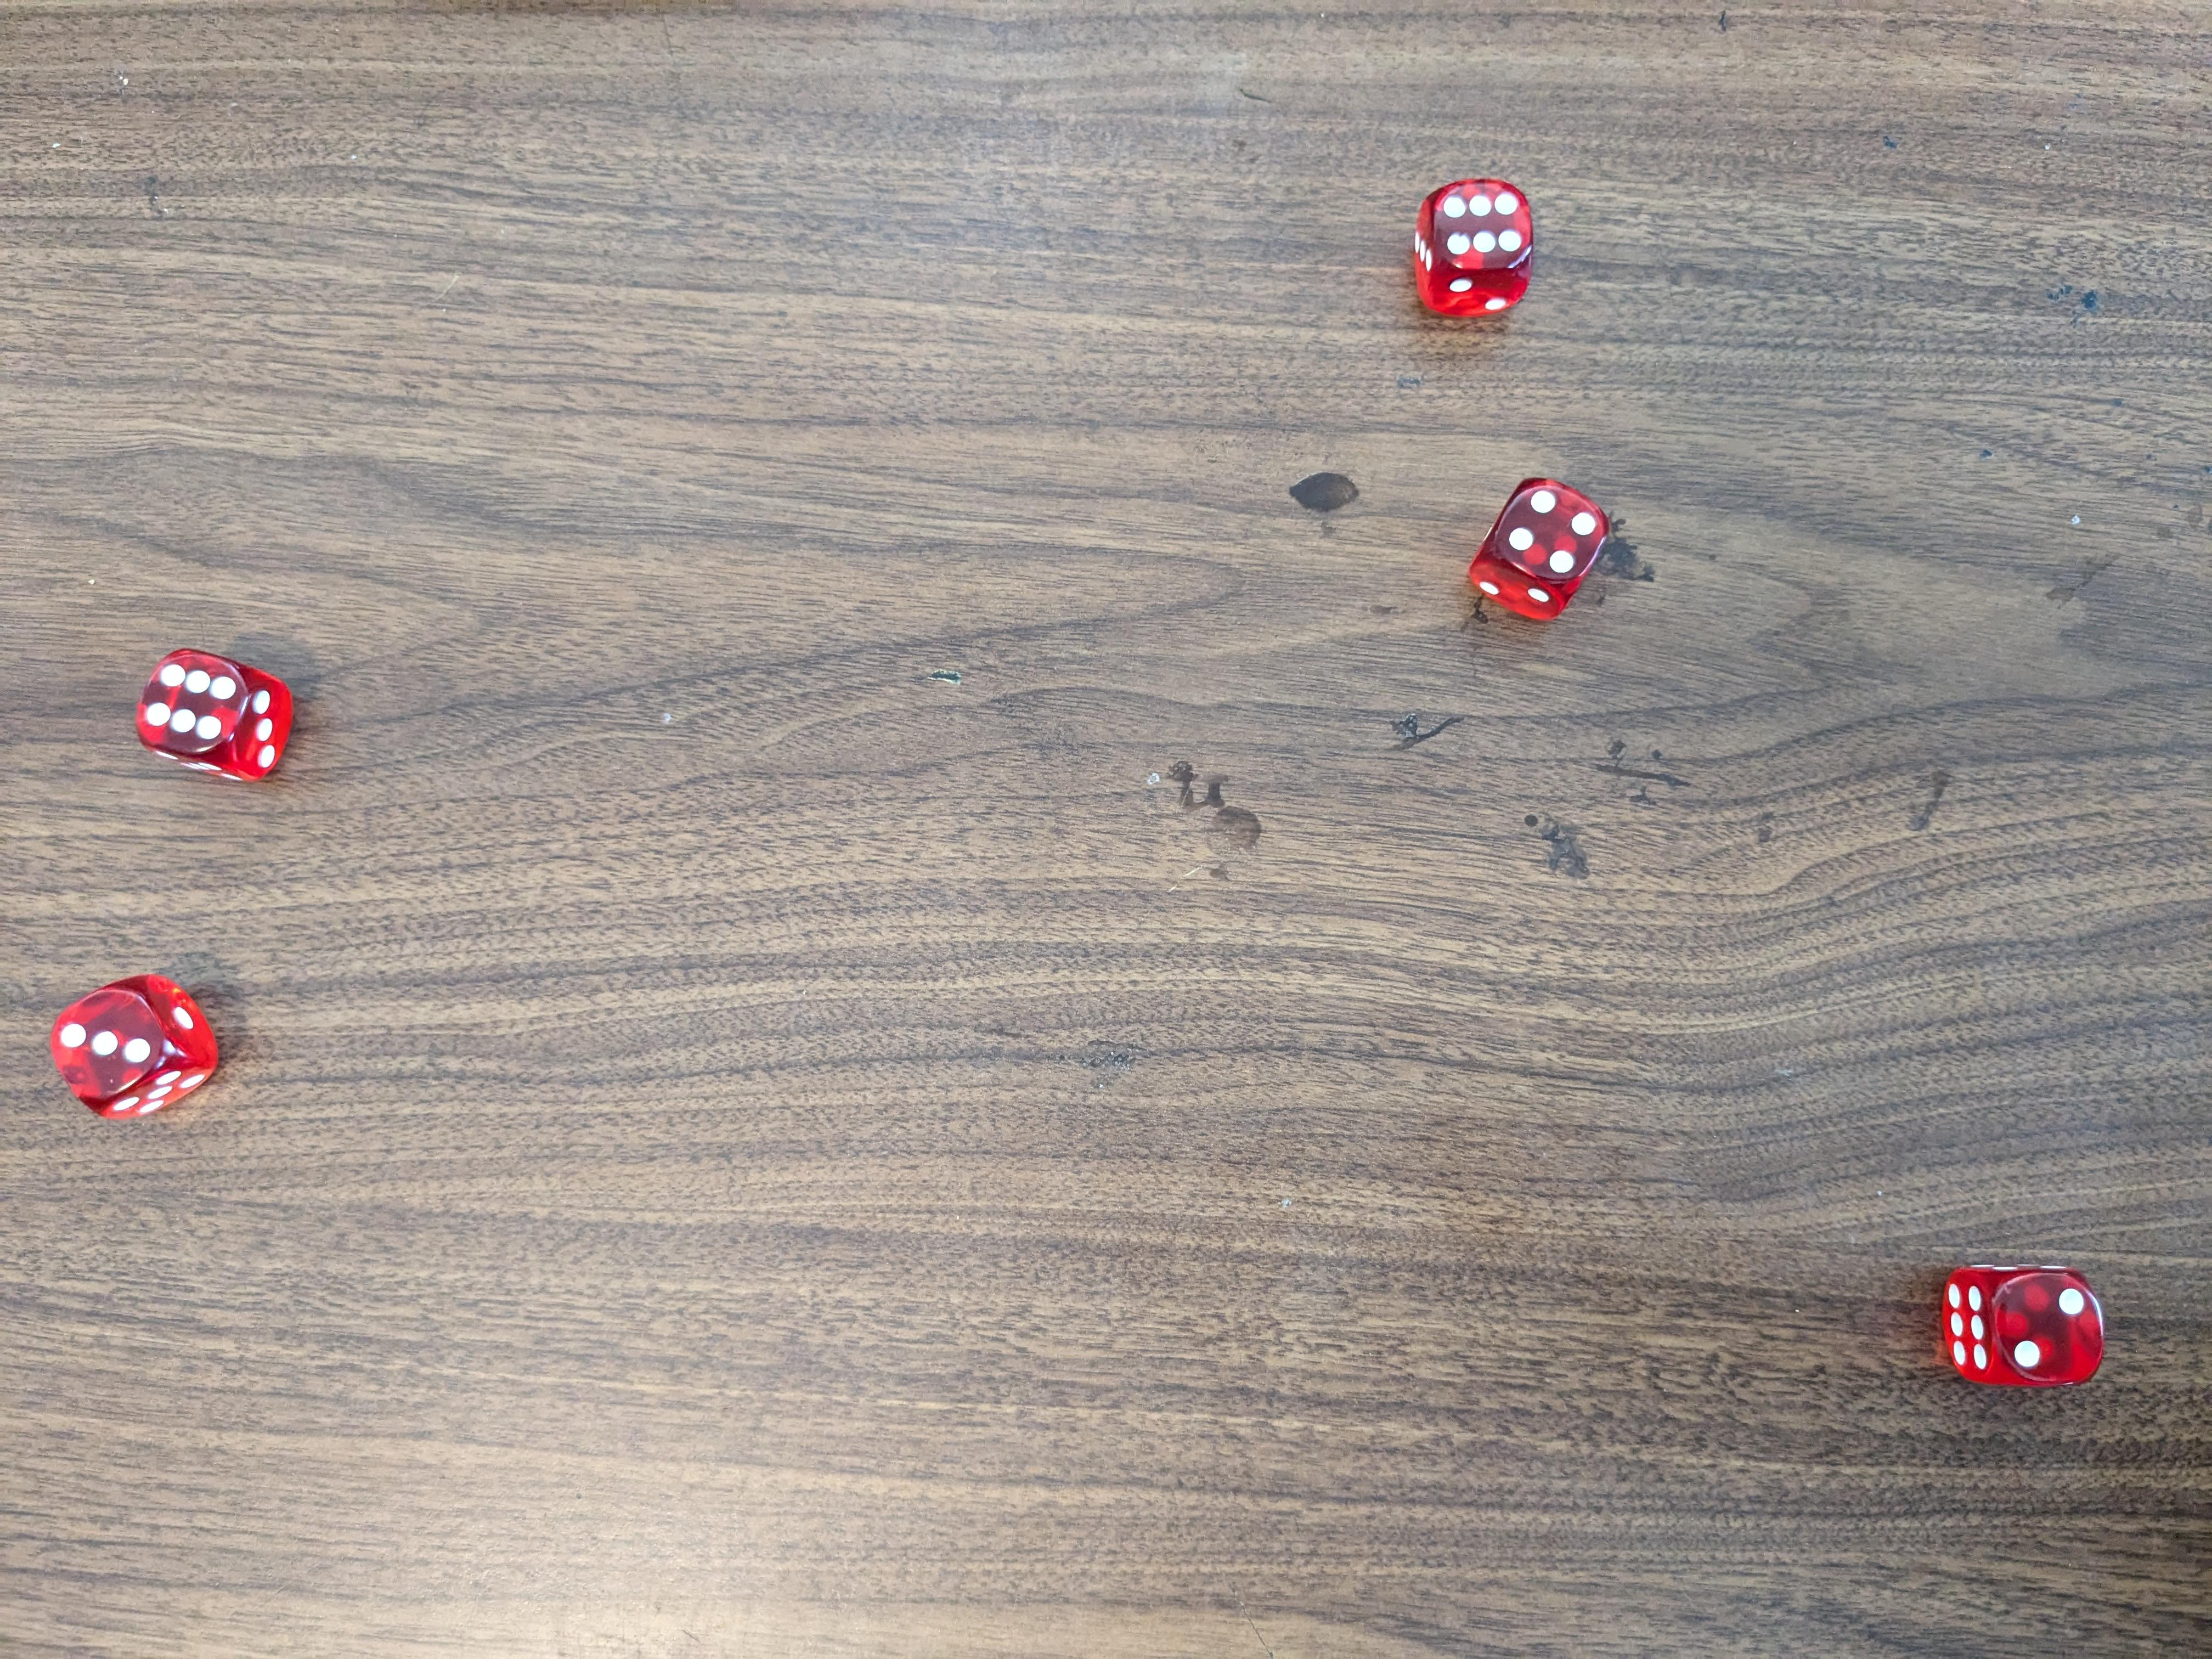four: (1470, 472, 1606, 624)
six: (138, 645, 296, 789), (1411, 174, 1536, 319)
three: (45, 969, 225, 1114)
two: (1944, 1258, 2116, 1394)
